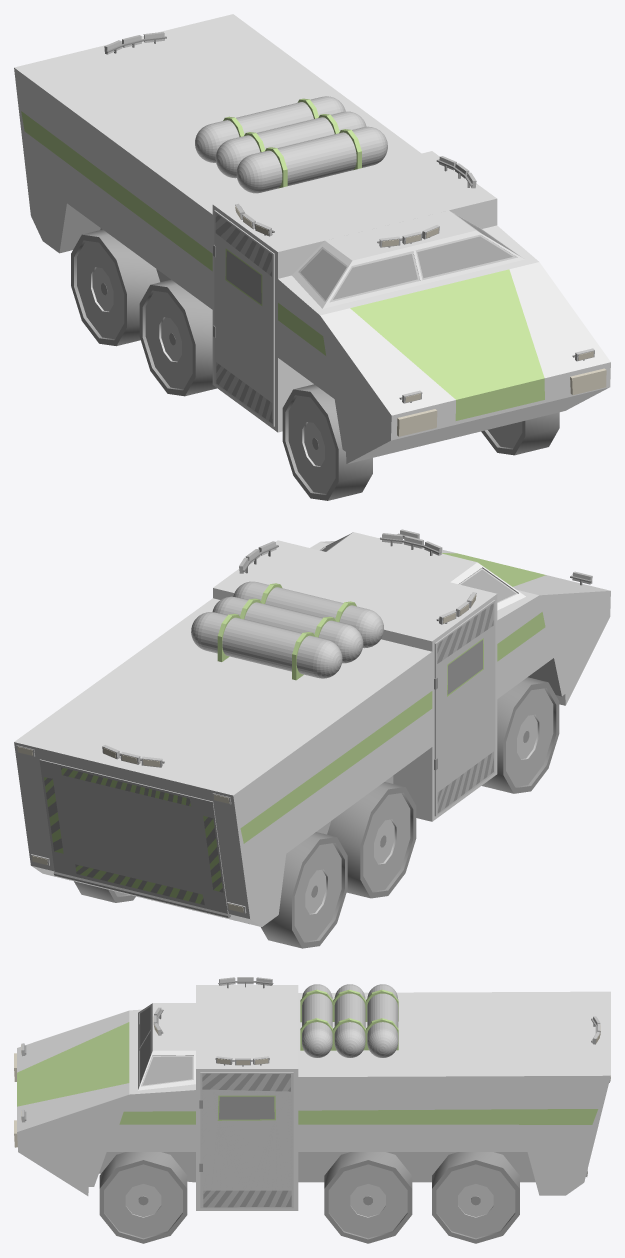
Rendered from kar_1.fbx.
3 renders of one model, top to bottom at view 1: azimuth 30°, elevation 25°; view 2: azimuth 150°, elevation 25°; view 3: azimuth 270°, elevation 25°, orthographic. The views are drawn at different scales.
Parts seen in each view (by area): view 1: Cylinder_1, Boole_2_4, Boole_2_5, Boole_2_6, Boole_2_3; view 2: Cylinder_1, Boole_2_5, Boole_2_4, Boole_2_6, Boole_2; view 3: Cylinder_1, Boole_2_3, Boole_2_2, Boole_2.
Part boxes in pixels (<box>): Cylinder_1: <box>14,14,610,464</box>; Boole_2_4: <box>71,229,159,346</box>; Boole_2_5: <box>139,279,216,396</box>; Boole_2_6: <box>282,384,372,500</box>; Boole_2_3: <box>481,412,559,455</box>; Cylinder_1: <box>14,529,610,926</box>; Boole_2_5: <box>327,782,416,898</box>; Boole_2_4: <box>261,832,347,948</box>; Boole_2_6: <box>482,677,559,793</box>; Boole_2: <box>74,881,135,902</box>; Cylinder_1: <box>14,977,610,1210</box>; Boole_2_3: <box>99,1152,187,1243</box>; Boole_2_2: <box>324,1152,412,1243</box>; Boole_2: <box>432,1152,519,1243</box>.
Size of the model in its own units: 305 by 328 by 900.
